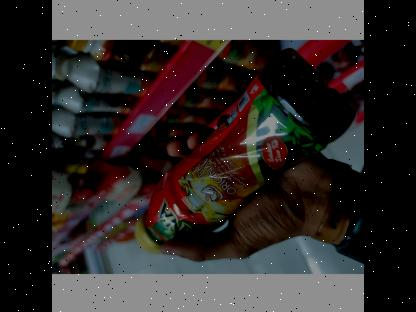Plastic Bottle: (119, 37, 364, 272)
